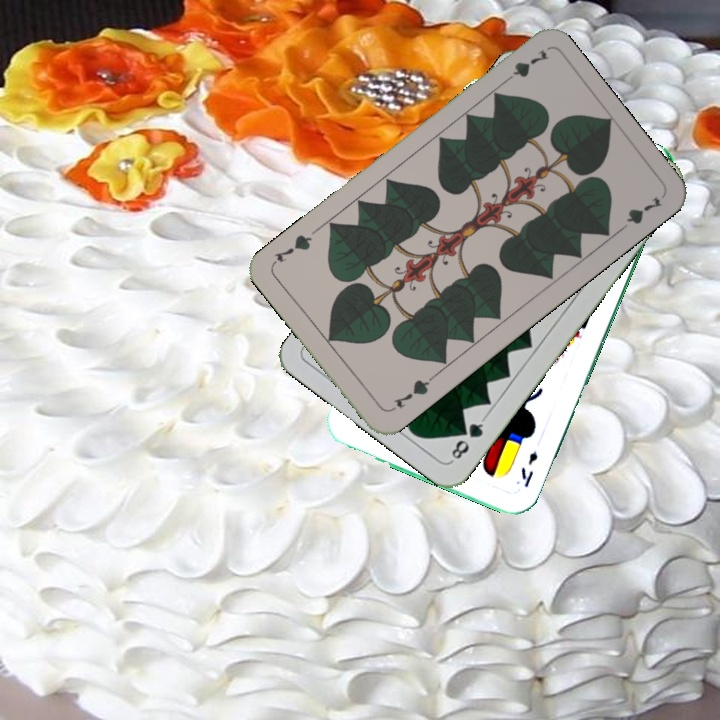EK: (517, 447, 541, 490)
G7: (497, 45, 552, 88), (386, 372, 436, 414)
G8: (447, 413, 488, 464)
